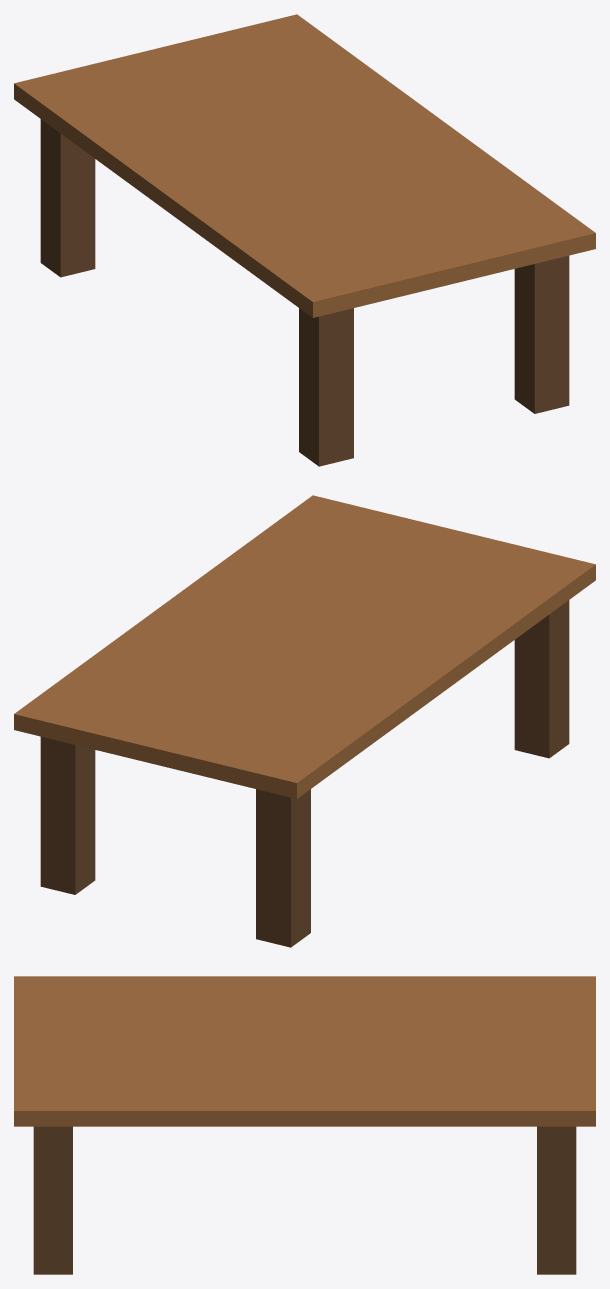
Rendered from table.fbx.
3 views of the same model, one above another, from view 1: azimuth 30°, elevation 25°; view 2: azimuth 150°, elevation 25°; view 3: azimuth 270°, elevation 25° (orthographic). The views are drawn at different scales.
Parts seen in each view (by area): view 1: table; view 2: table; view 3: table.
Part boxes in pixels (box(x1,y1,x2,y2)): table: box(14, 14, 595, 466); table: box(14, 495, 595, 947); table: box(14, 976, 595, 1274).
Size of the model in its own units: 2 by 1.19 by 3.66.
